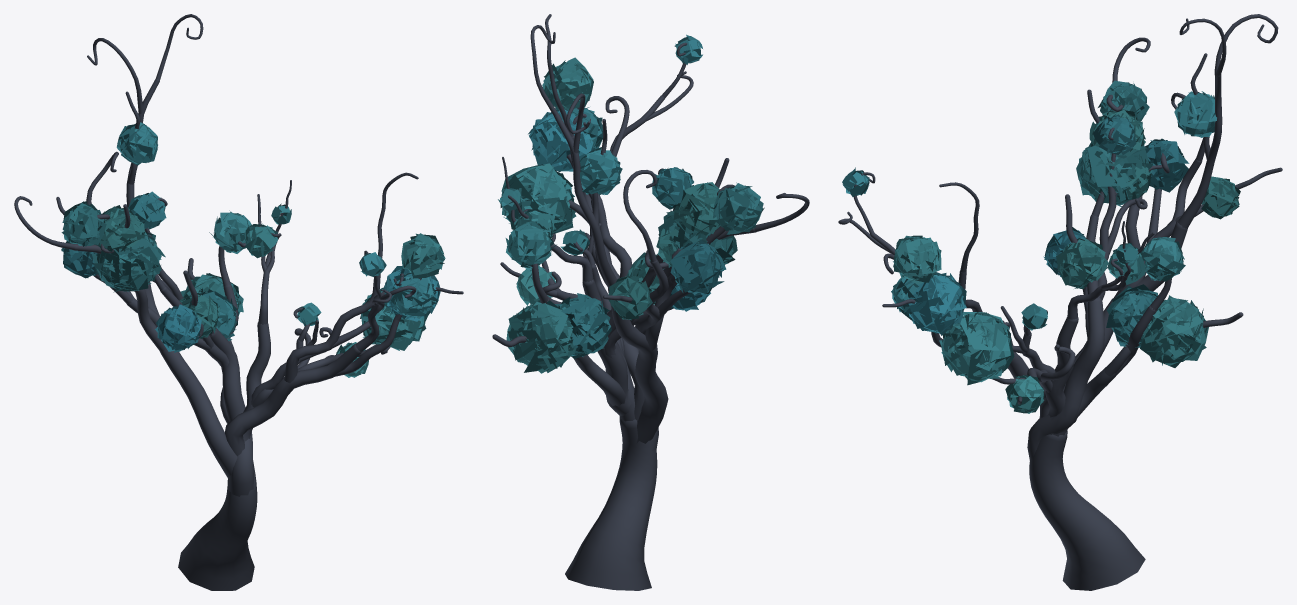
File: spooky-6964.glb
3 views of the same model, side by side, from view 1: azimuth 30°, elevation 25°; view 2: azimuth 150°, elevation 25°; view 3: azimuth 270°, elevation 25° (orthographic). The views are drawn at different scales.
Visible parts, largest first — view 1: wood, leaves; view 2: leaves, wood; view 3: leaves, wood.
Boxes of the visible parts, x1,y1,x2,y2 form: wood: (14, 14, 463, 590); leaves: (61, 122, 445, 377); leaves: (498, 34, 764, 373); wood: (492, 14, 809, 590); leaves: (842, 80, 1240, 413); wood: (838, 14, 1282, 590).
Bounding box in the file's own units: 6.43 × 9.54 × 6.7.
